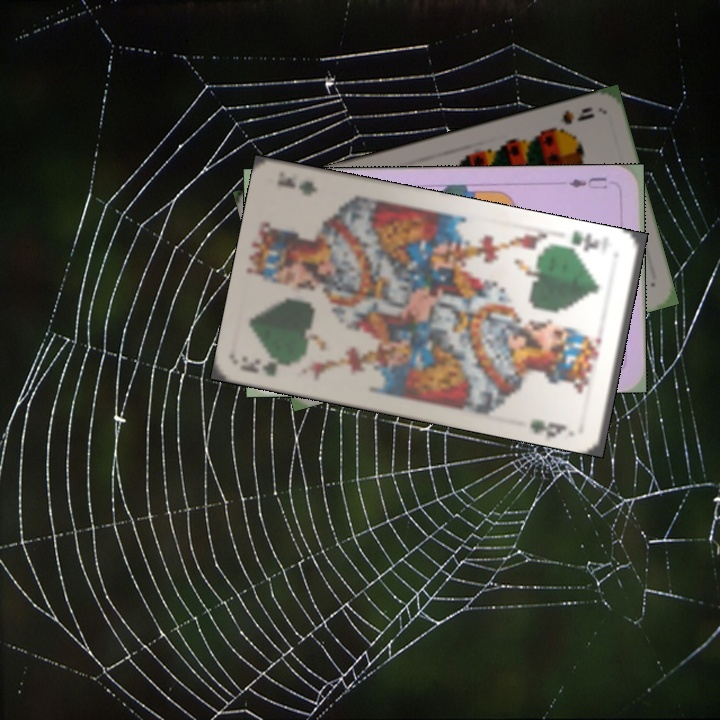EU: (563, 172, 610, 192)
GK: (237, 354, 299, 379), (558, 227, 602, 254)
S9: (542, 103, 597, 136)
